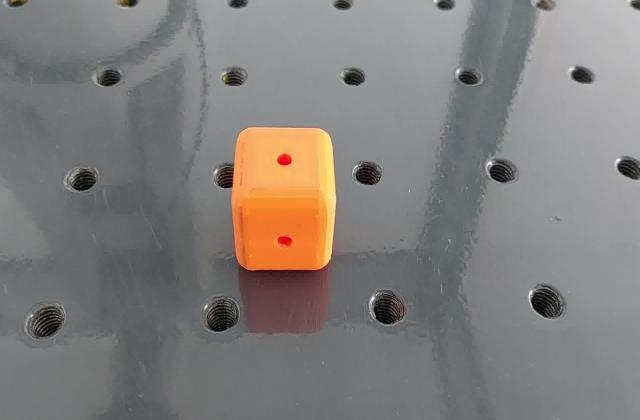cube: (230, 121, 338, 276)
